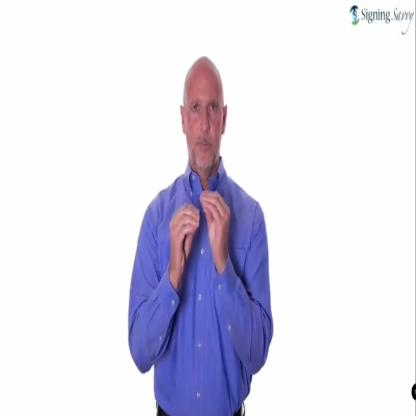Fix: (160, 178, 232, 275)
